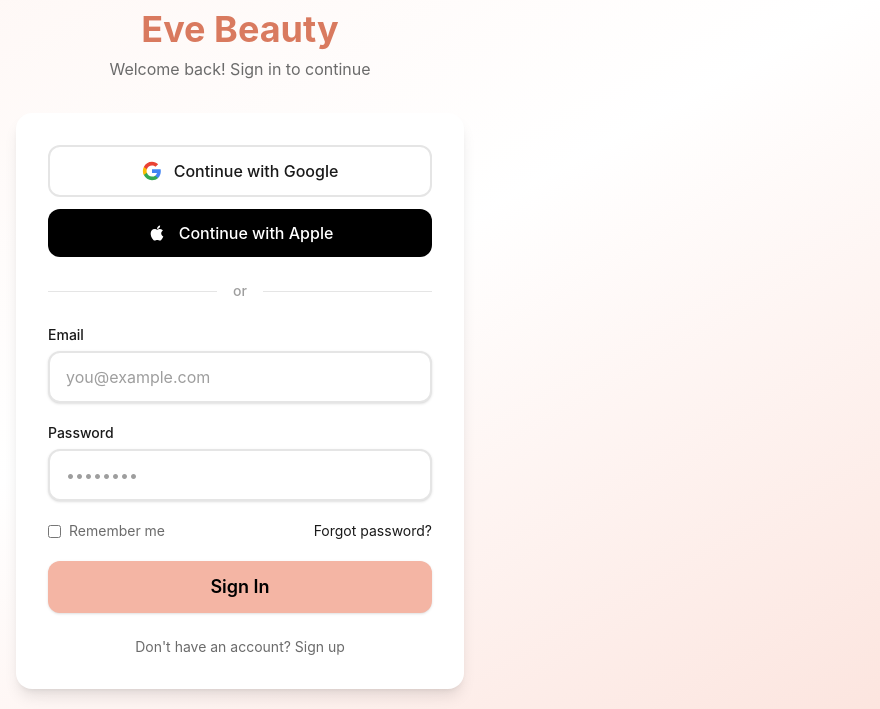
LoginPage › disables submit button while loading
In the field with placeholder "you@example.com": [240, 377] box x1=48 y1=351 x2=432 y2=403, type "test@example.com"
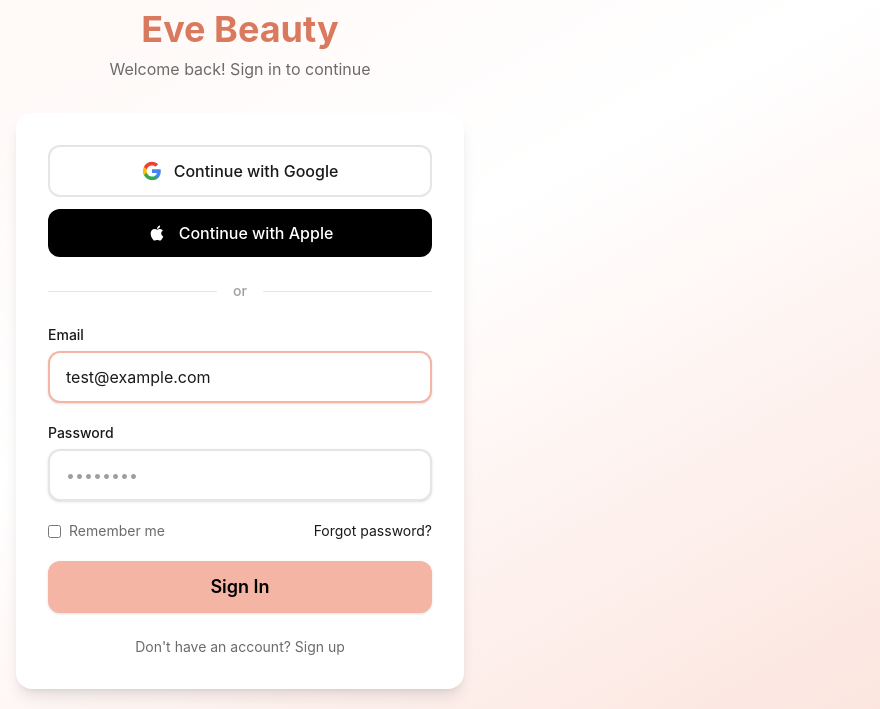
In the password field with placeholder "••••••••": [240, 475] box x1=48 y1=449 x2=432 y2=501, type "password123"
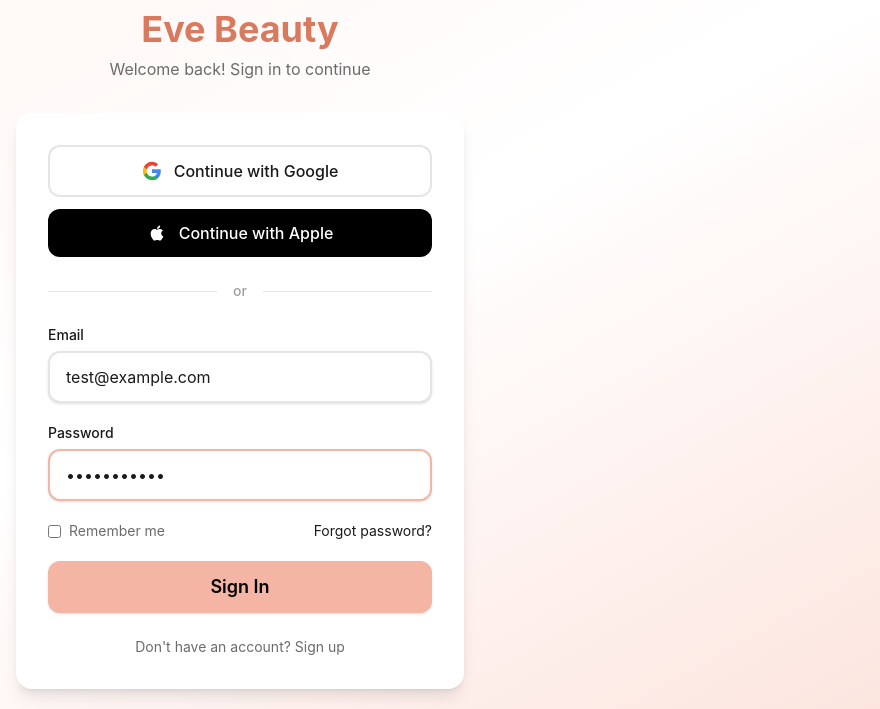
Click the button "Sign In": [240, 587] box x1=48 y1=561 x2=432 y2=613
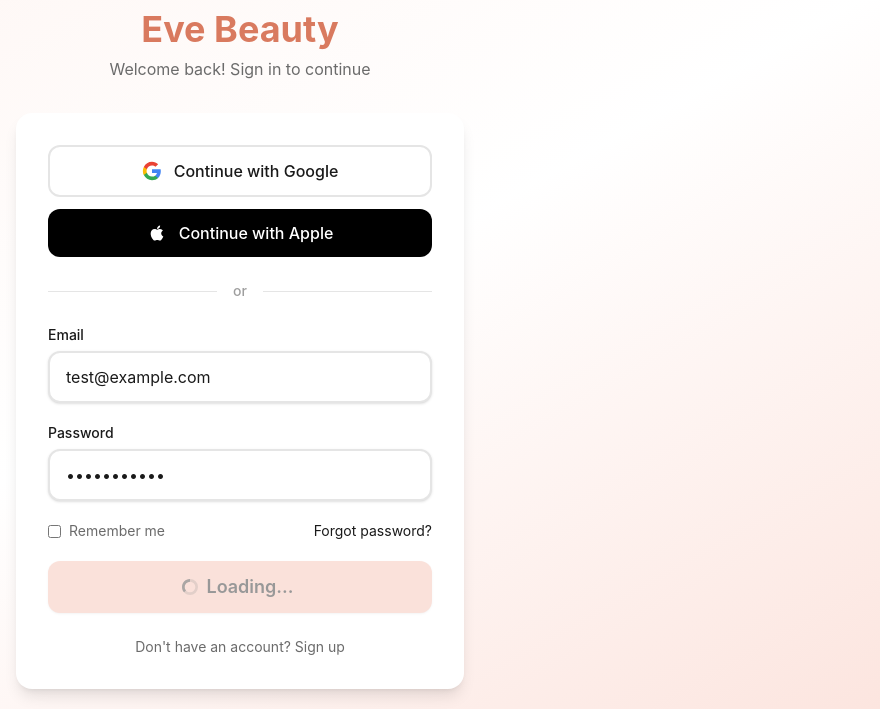
expect the button named "sign in" is disabled: met, box x1=48 y1=561 x2=432 y2=613
